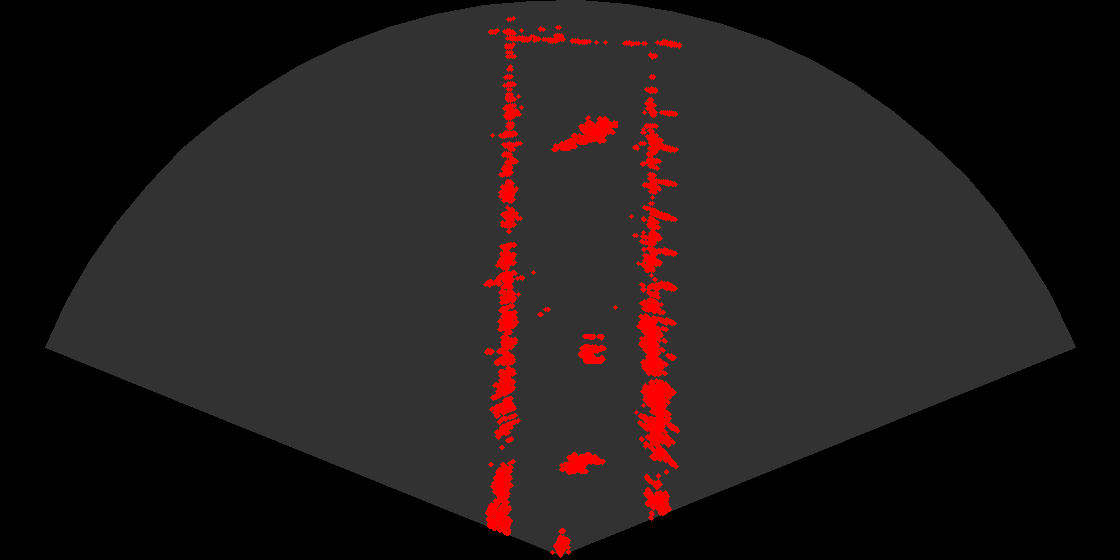AUV: (553, 450, 609, 482)
ball: (558, 326, 618, 367)
frogman: (550, 109, 618, 156)
